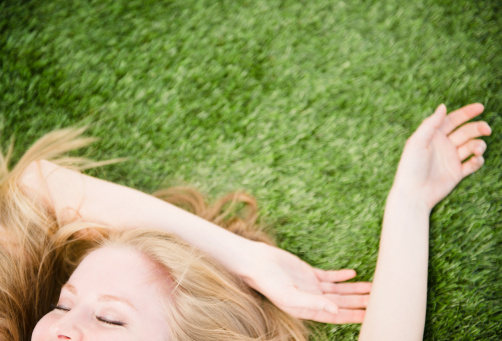deitado: (0, 192, 404, 341)
